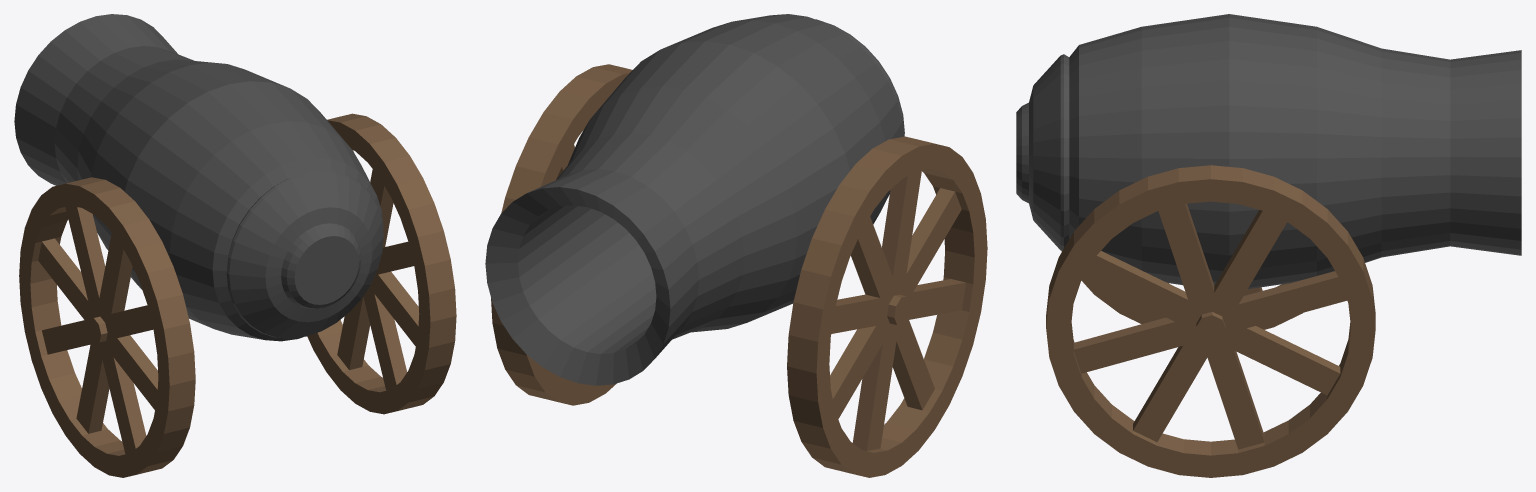
The model's file is canon.fbx.
3 views of the same model, side by side, from view 1: azimuth 30°, elevation 25°; view 2: azimuth 150°, elevation 25°; view 3: azimuth 270°, elevation 25° (orthographic). The views are drawn at different scales.
Parts seen in each view (by area): view 1: canon, Wheel, Wheel.001; view 2: canon, Wheel, Wheel.001; view 3: canon, Wheel.001, Wheel.
Part boxes in pixels (x1,y1,x2,y2): canon: [14, 14, 383, 341]; Wheel: [19, 177, 195, 477]; Wheel.001: [307, 113, 456, 414]; canon: [485, 14, 904, 385]; Wheel: [787, 136, 987, 477]; Wheel.001: [491, 64, 632, 405]; canon: [1016, 14, 1521, 289]; Wheel.001: [1046, 165, 1375, 477]; Wheel: [1061, 251, 1302, 329].
Size of the model in its own units: 220 by 251 by 307.
